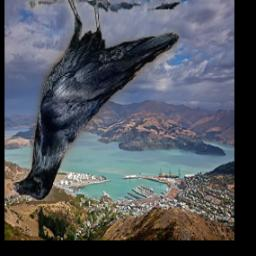Crow: (13, 0, 180, 202)
